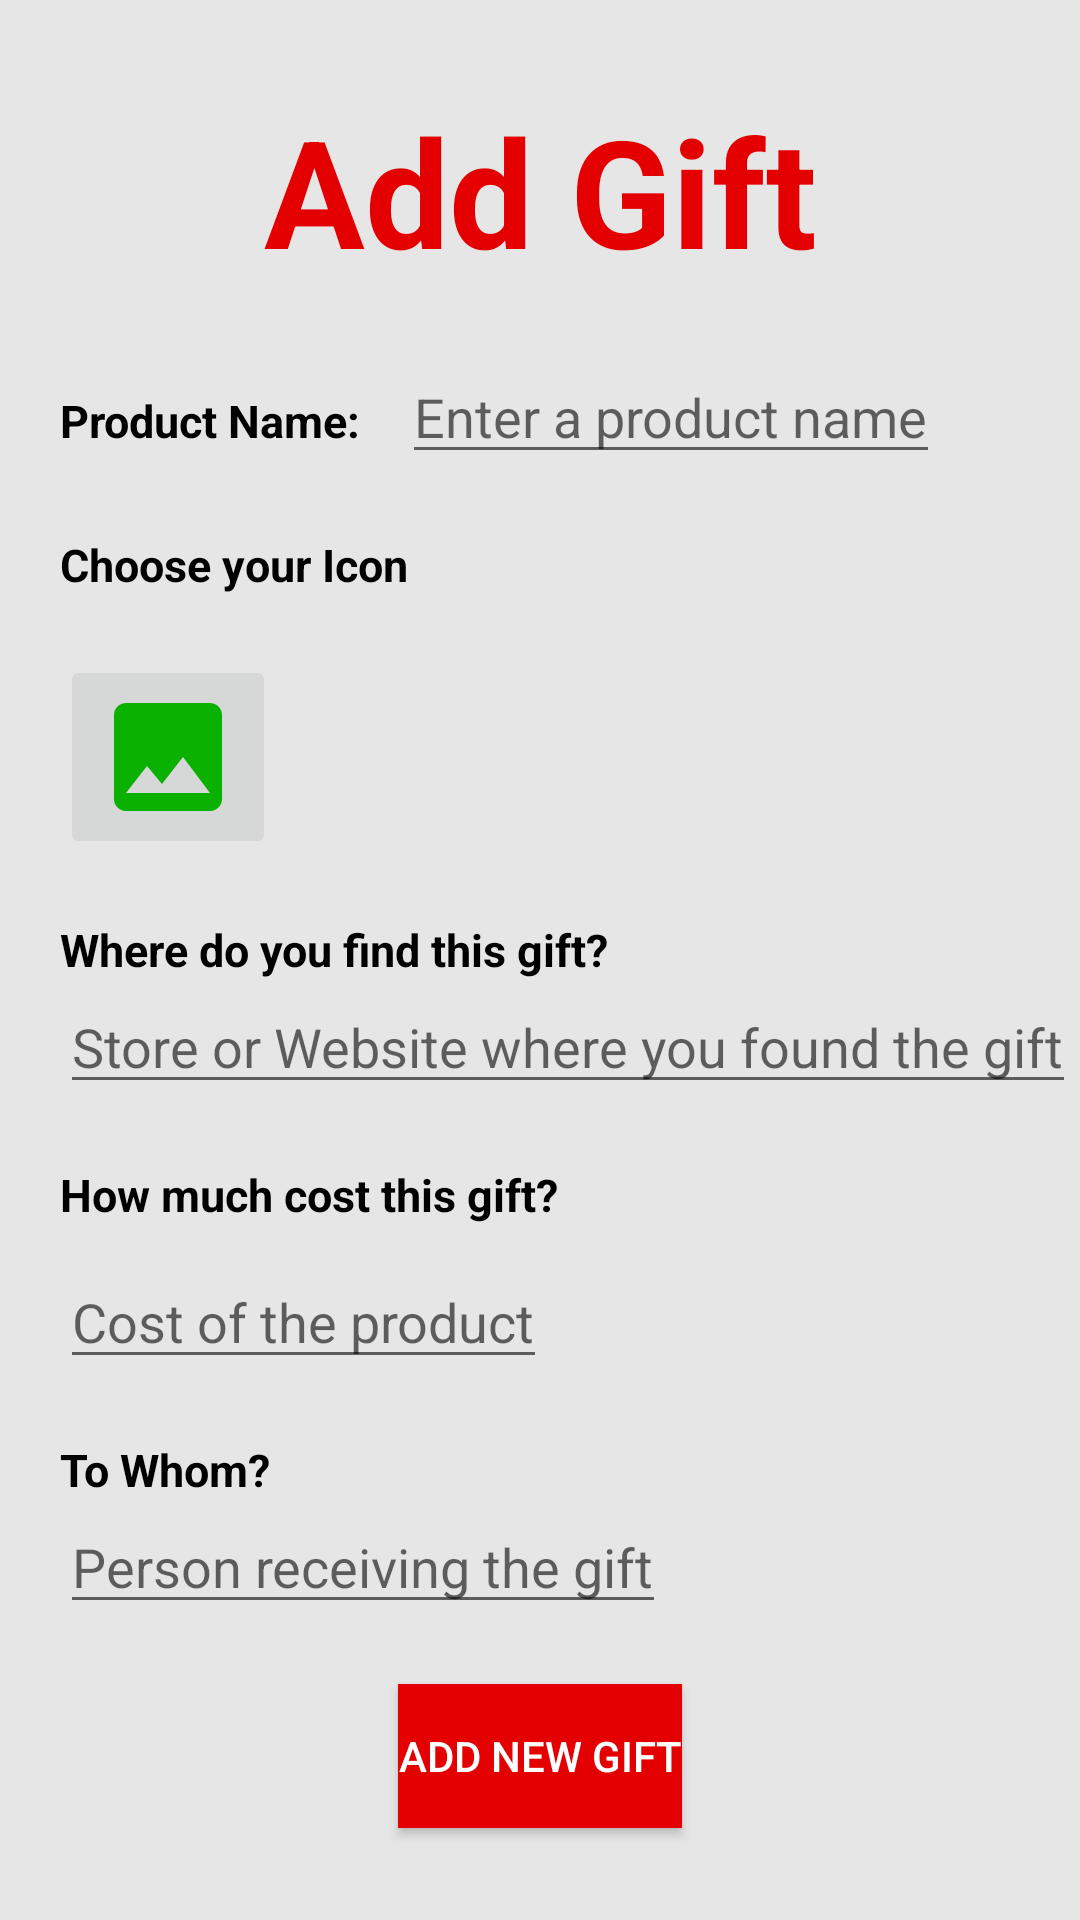

Point at icon controls on the screen. Image size 1080px×1920px, points as (x,y).
photo: (168,757)
